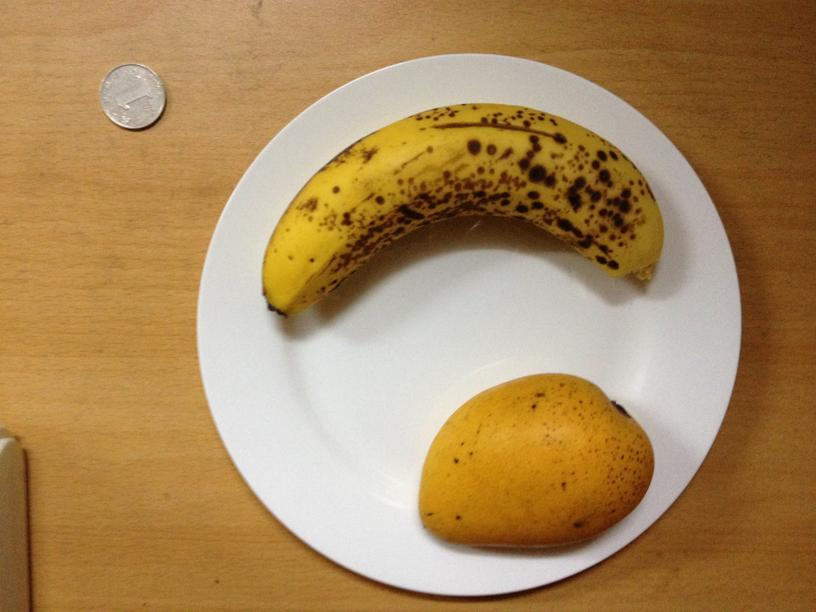banana: (252, 101, 667, 312)
coin: (96, 64, 167, 129)
mango: (419, 372, 655, 551)
